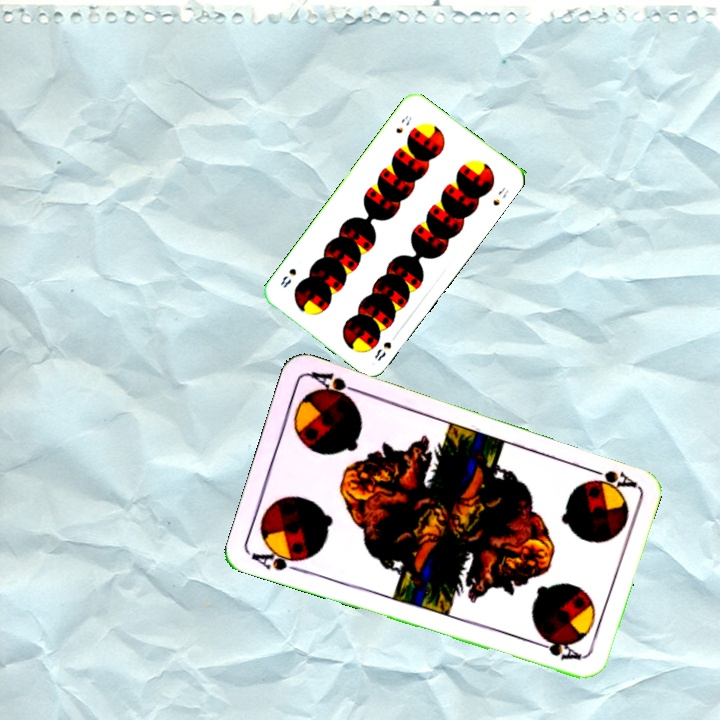S8: (370, 337, 394, 364), (392, 111, 415, 136)
SA: (247, 543, 309, 576), (580, 463, 638, 490)
